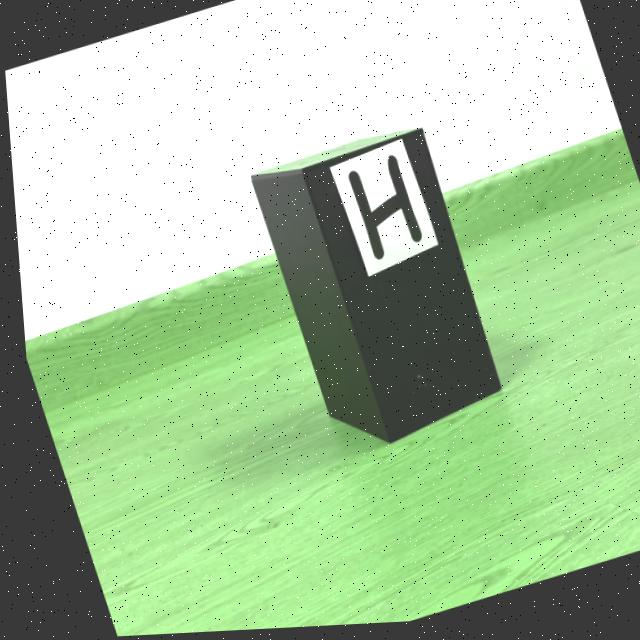H: (345, 159, 418, 263)
